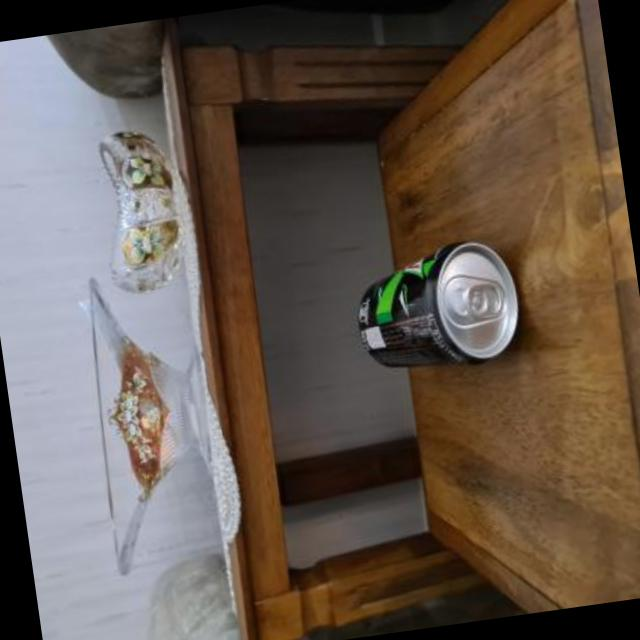metal: (355, 245, 515, 370)
